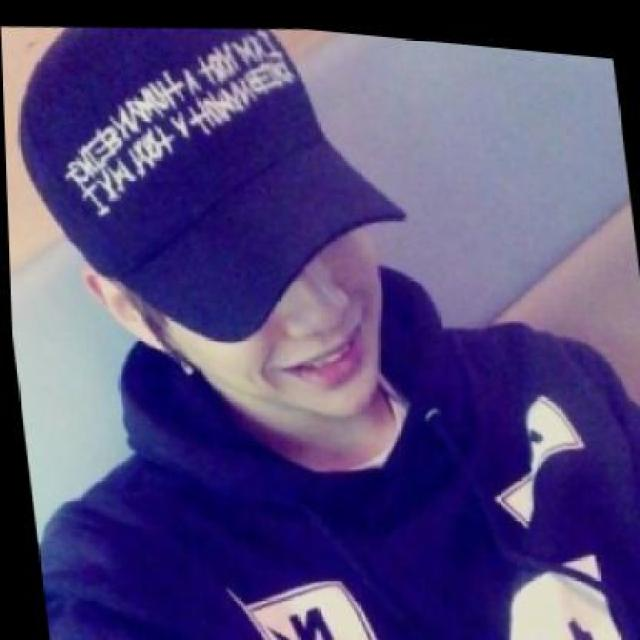hat: (0, 0, 418, 364)
